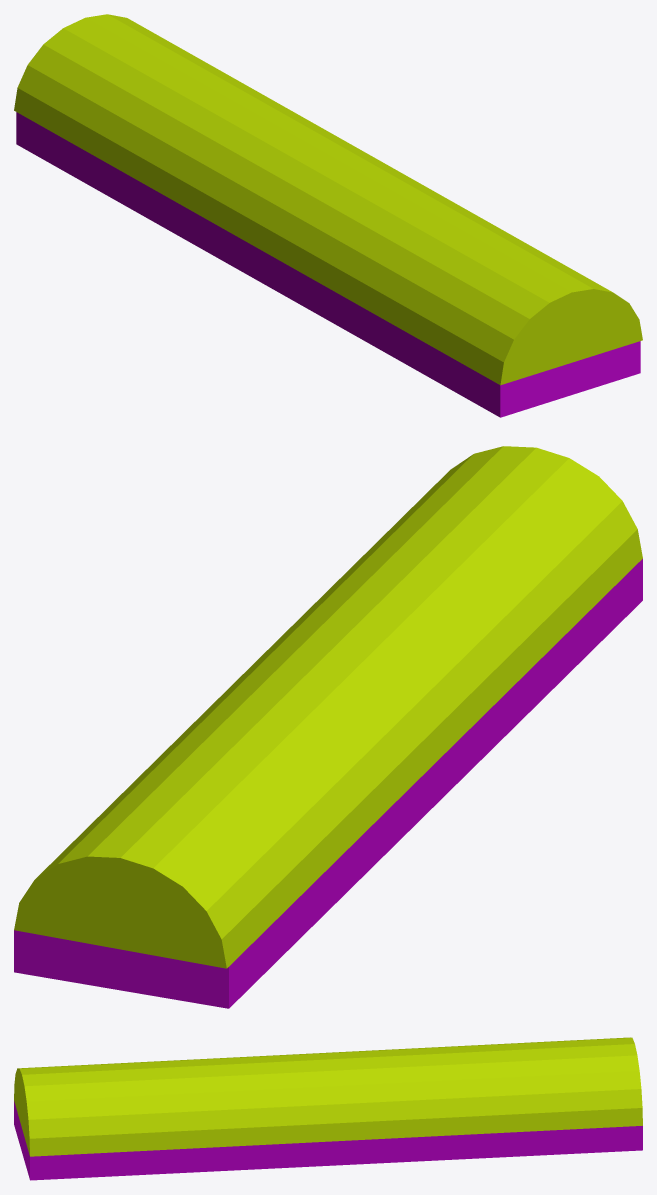
File: tunnel.glb
The picture shows the model from 3 angles, top to bottom: view 1: azimuth 30°, elevation 25°; view 2: azimuth 150°, elevation 25°; view 3: azimuth 270°, elevation 25°; orthographic projection. The views are drawn at different scales.
Parts seen in each view (by area): view 1: tunnel; view 2: tunnel; view 3: tunnel.
Part boxes in pixels (bbox=[...]): tunnel: bbox=[14, 14, 642, 417]; tunnel: bbox=[14, 446, 642, 1008]; tunnel: bbox=[14, 1037, 642, 1180].
Bounding box in the file's own units: 13.37 × 5.55 × 40.53.
